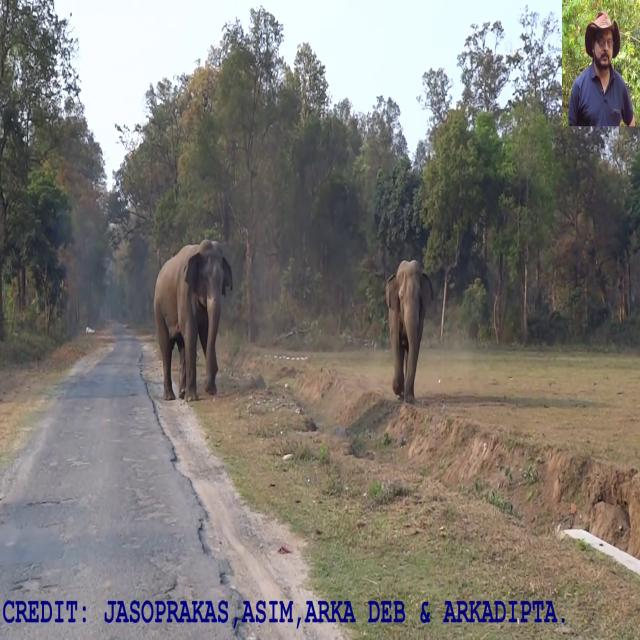Elephant: (153, 238, 233, 402), (385, 258, 434, 404)
